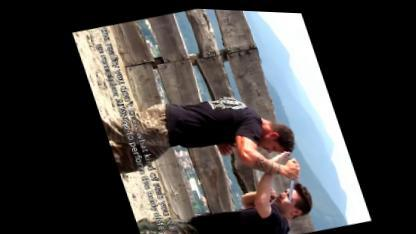knife: (271, 153, 306, 201)
